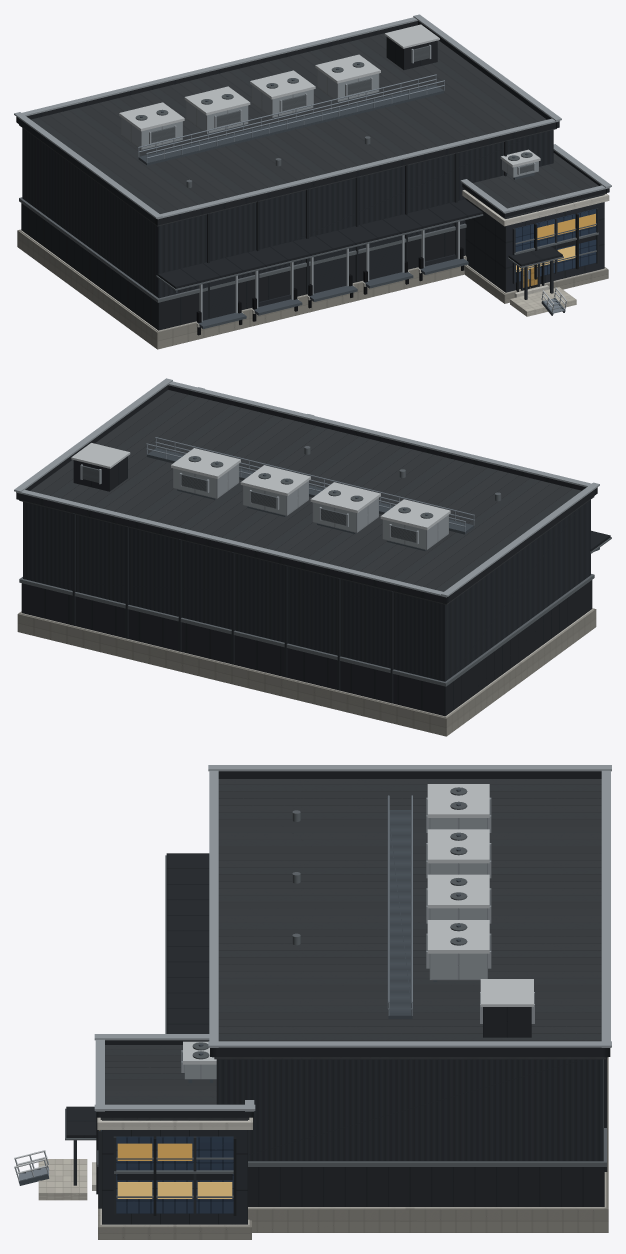
The model's file is civic-information-age-food-warehouse-built.glb.
3 renders of one model, top to bottom at view 1: azimuth 30°, elevation 25°; view 2: azimuth 150°, elevation 25°; view 3: azimuth 270°, elevation 25°, orthographic. The views are drawn at different scales.
Bounding box in the file's own units: 41.94 × 14.65 × 36.88.
39 materials, 25 textured.
